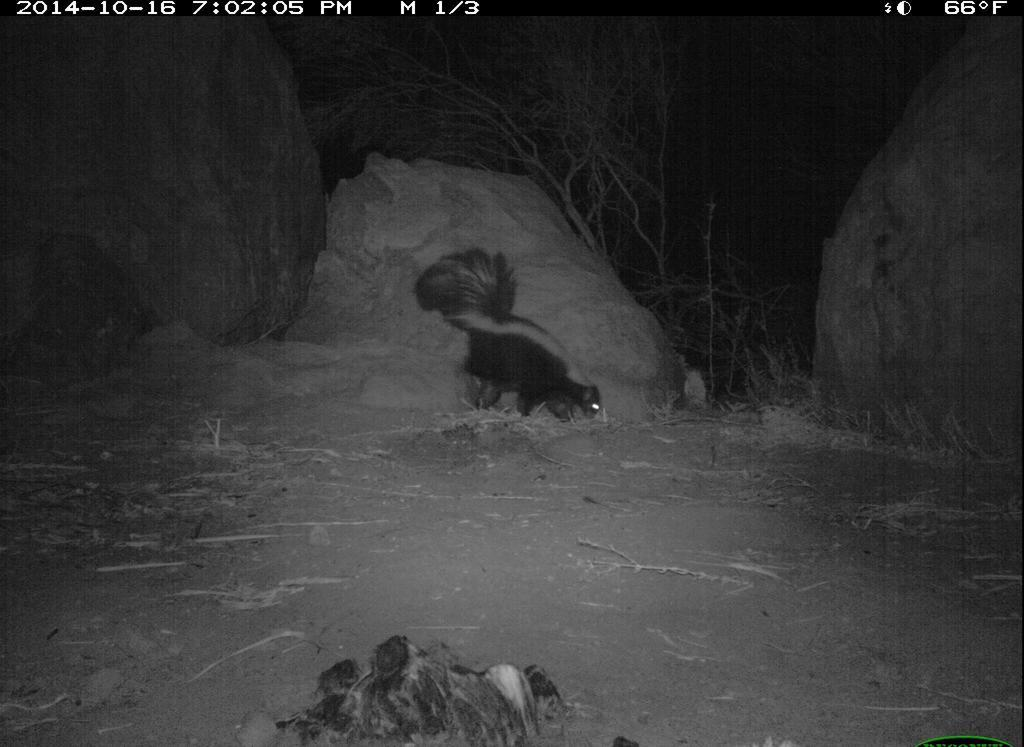skunk: (408, 242, 607, 429)
